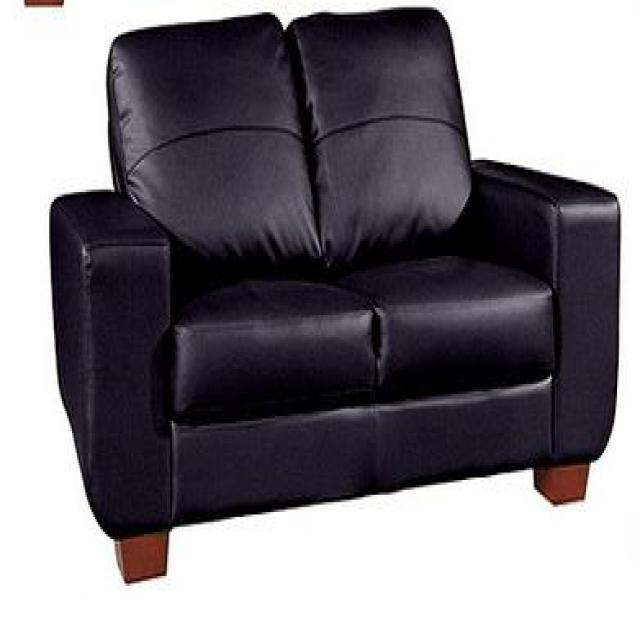sofa: (48, 5, 622, 588)
